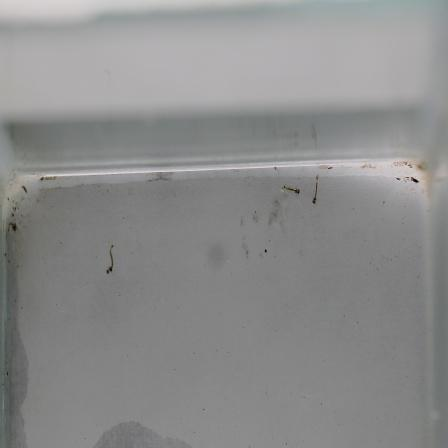Jentik-Nyamuk: (101, 240, 127, 282), (307, 174, 327, 207), (278, 178, 303, 201)
